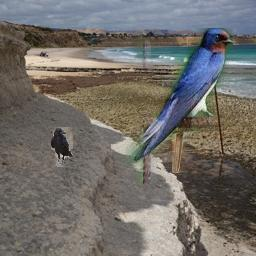Crow: (51, 127, 73, 167)
Cuckoo: (172, 81, 202, 173)
Swallow: (92, 28, 233, 184)
